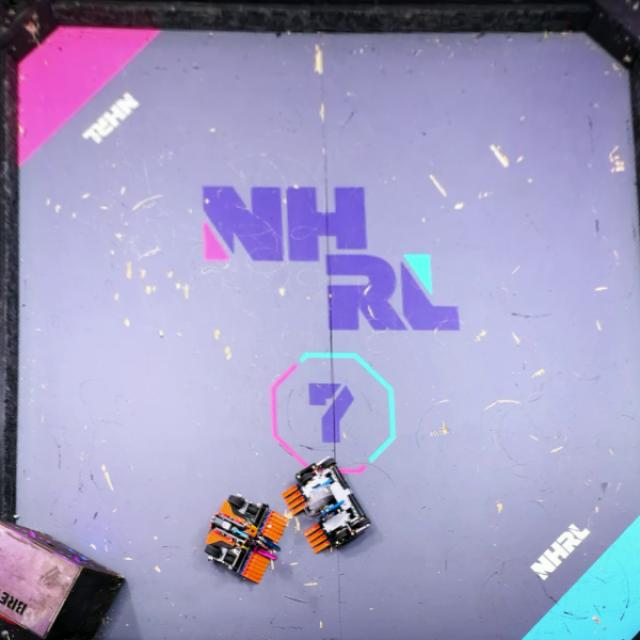housebot: (0, 517, 129, 640)
robot: (282, 456, 372, 554), (205, 495, 287, 584)
